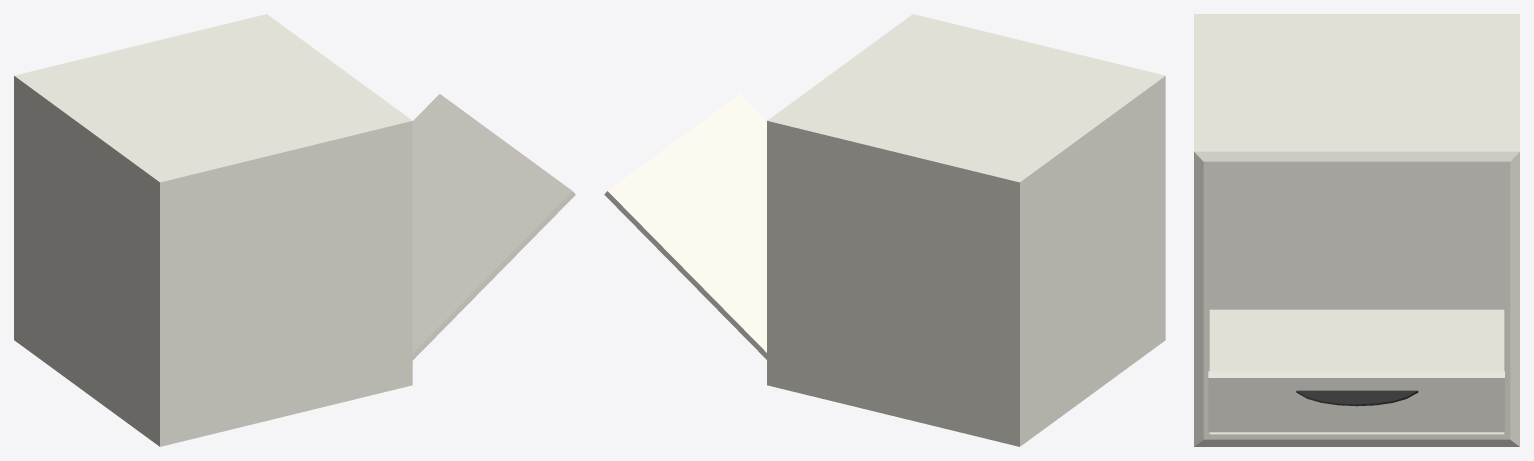
File: Kitchen_Long_Single_Top_Shelf_InteractiveDoor.fbx
3 views of the same model, side by side, from view 1: azimuth 30°, elevation 25°; view 2: azimuth 150°, elevation 25°; view 3: azimuth 270°, elevation 25° (orthographic). The views are drawn at different scales.
Parts seen in each view (by area): view 1: polySurface12, polySurface13; view 2: polySurface12, polySurface13; view 3: polySurface12, polySurface13.
Part boxes in pixels (x1=…): polySurface12: x1=14, y1=14, x2=412, y2=446; polySurface13: x1=412, y1=94, x2=575, y2=360; polySurface12: x1=767, y1=14, x2=1165, y2=446; polySurface13: x1=604, y1=93, x2=766, y2=359; polySurface12: x1=1194, y1=14, x2=1519, y2=446; polySurface13: x1=1208, y1=371, x2=1504, y2=432.
Bounding box in the file's own units: 33.37 × 19.97 × 19.97.
